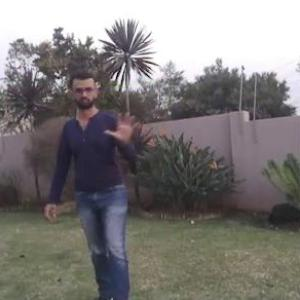follow_hand: (102, 107, 143, 144)
